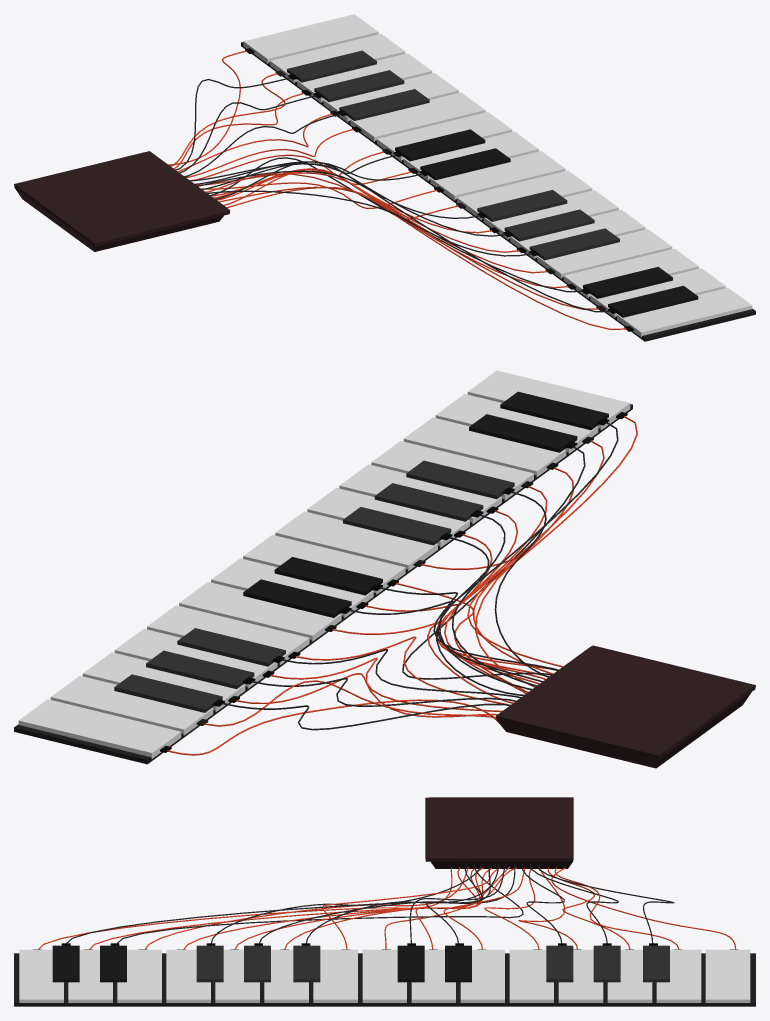
Rendered from piano.glb.
The picture shows the model from 3 angles, top to bottom: view 1: azimuth 30°, elevation 25°; view 2: azimuth 150°, elevation 25°; view 3: azimuth 270°, elevation 25°; orthographic projection. The views are drawn at different scales.
Visible parts, largest first — view 1: Plane.014, BezierCurve.015, BezierCurve.024, Plane.021, Plane, Plane.017, Plane.011, Plane.007, Plane.010, Plane.006, Plane.015, Plane.020 (+18 smaller); view 2: Plane.014, BezierCurve.015, BezierCurve.024, Plane.021, Plane.010, Plane.006, Plane.015, Plane.020, Plane.017, Plane.011, Plane, Plane.007 (+18 smaller); view 3: Plane.014, Cube, BezierCurve.015, BezierCurve.024, Plane.021, Plane.010, Plane.017, Plane.011, Plane.006, Plane, Plane.015, Plane.020 (+17 smaller).
Boxes of the visible parts, <box> form: Plane.014: <box>14,151,230,251</box>; BezierCurve.015: <box>168,50,626,329</box>; BezierCurve.024: <box>175,77,610,312</box>; Plane.021: <box>243,14,378,63</box>; Plane: <box>617,287,752,337</box>; Plane.017: <box>350,92,485,141</box>; Plane.011: <box>430,151,565,200</box>; Plane.007: <box>537,229,672,278</box>; Plane.010: <box>457,170,592,220</box>; Plane.006: <box>563,248,698,298</box>; Plane.015: <box>377,112,512,161</box>; Plane.020: <box>270,34,405,83</box>; Plane.014: <box>496,645,755,768</box>; BezierCurve.015: <box>167,416,637,755</box>; BezierCurve.024: <box>222,422,618,730</box>; Plane.021: <box>18,699,181,758</box>; Plane.010: <box>275,511,437,571</box>; Plane.006: <box>403,417,566,477</box>; Plane.015: <box>179,582,341,641</box>; Plane.020: <box>50,676,213,735</box>; Plane.017: <box>147,605,309,664</box>; Plane.011: <box>243,535,405,594</box>; Plane: <box>467,370,630,430</box>; Plane.007: <box>371,441,533,500</box>; Plane.014: <box>425,797,573,868</box>; Cube: <box>14,953,755,1006</box>; BezierCurve.015: <box>38,866,735,949</box>; BezierCurve.024: <box>66,864,674,943</box>; Plane.021: <box>705,949,750,1002</box>; Plane.010: <box>313,949,357,1002</box>; Plane.017: <box>509,949,553,1002</box>; Plane.011: <box>362,949,406,1002</box>; Plane.006: <box>117,949,161,1002</box>; Plane: <box>19,949,63,1002</box>; Plane.015: <box>460,949,504,1002</box>; Plane.020: <box>656,949,701,1002</box>.
Size of the model in its own units: 7.87 by 0.4635 by 12.6.
